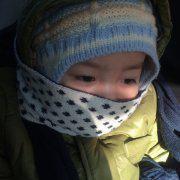WRONG: (51, 47, 143, 139)
